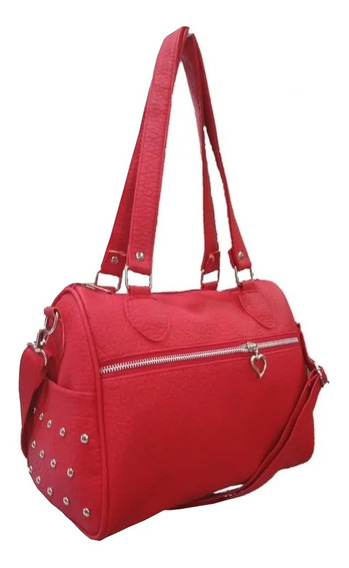cartera: (13, 25, 332, 543)
